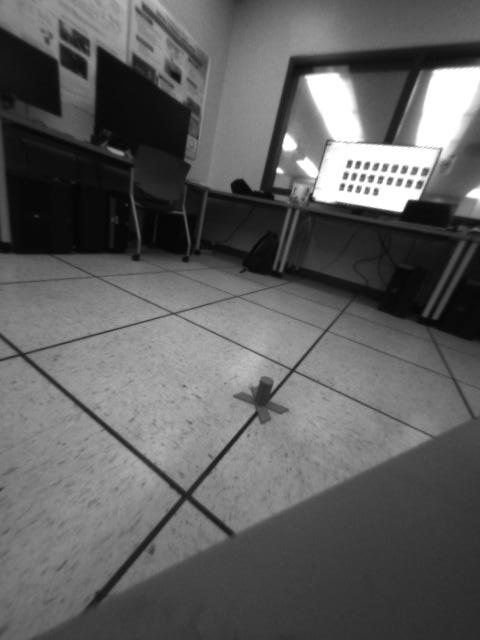X: (232, 375, 290, 423)
